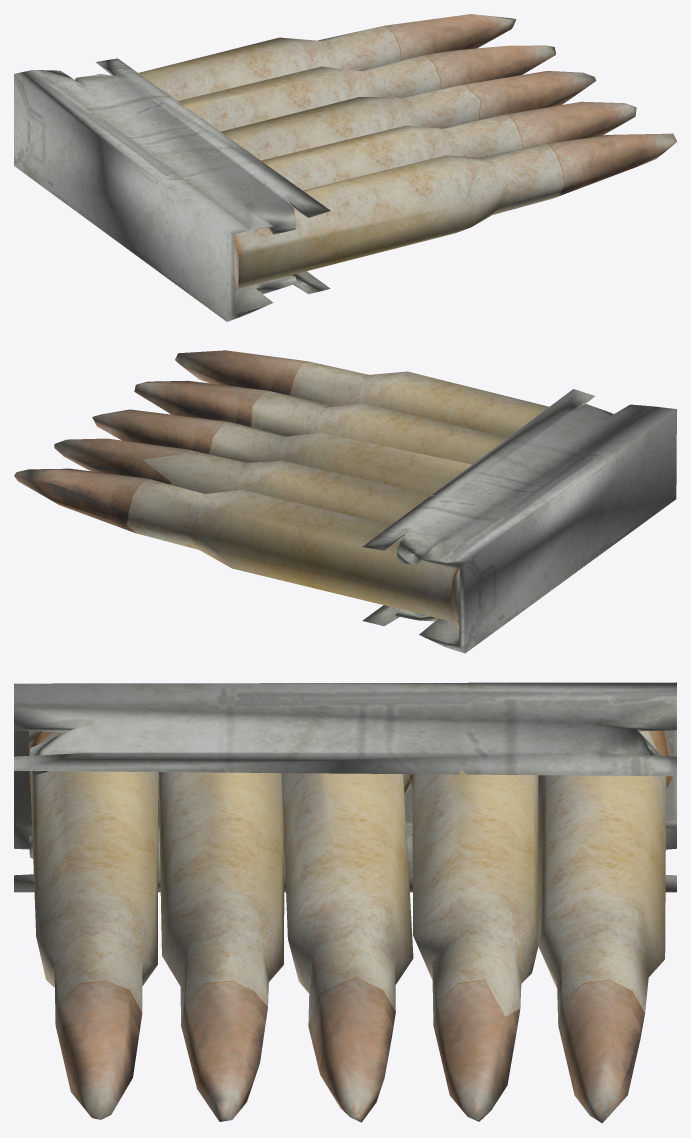
Rendered from Mag762x54rStripper.fbx.
The picture shows the model from 3 angles, top to bottom: view 1: azimuth 30°, elevation 25°; view 2: azimuth 150°, elevation 25°; view 3: azimuth 270°, elevation 25°; orthographic projection. The views are drawn at different scales.
Parts seen in each view (by area): view 1: StripperClip; view 2: StripperClip; view 3: StripperClip.
Part boxes in pixels (x1,y1,x2,y2): StripperClip: [14, 14, 676, 321]; StripperClip: [14, 350, 676, 653]; StripperClip: [14, 682, 676, 1123].
Size of the model in its own units: 0.0443 by 0.00813 by 0.0341.
